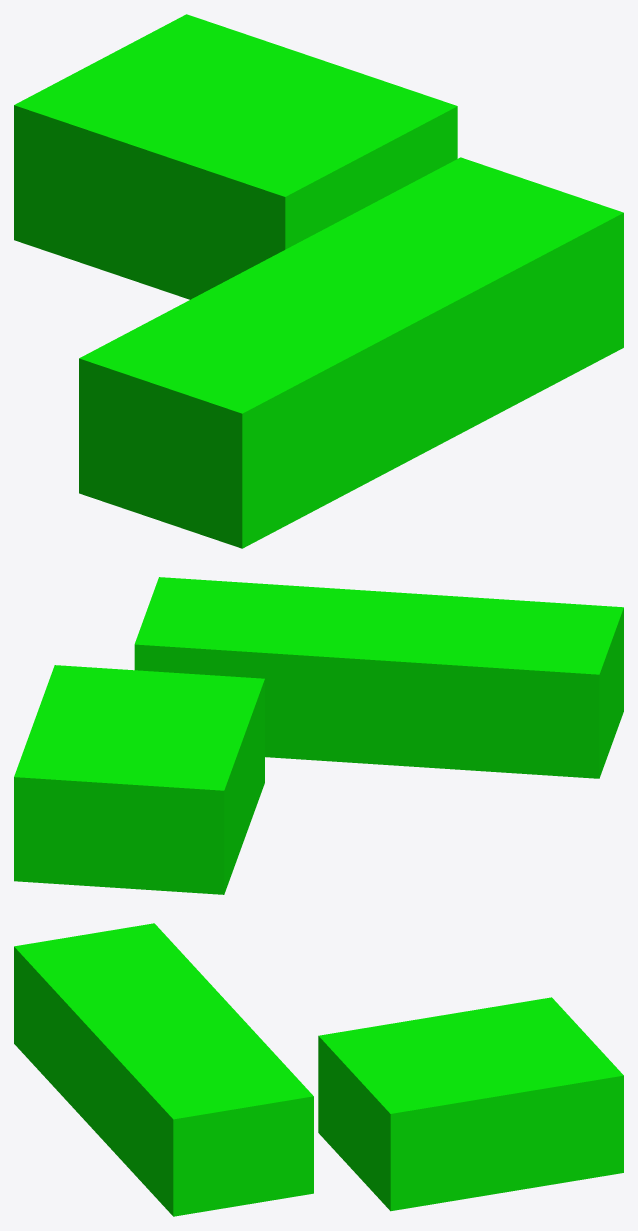
File: OPS levelG bubble.fbx
3 renders of one model, top to bottom at view 1: azimuth 30°, elevation 25°; view 2: azimuth 150°, elevation 25°; view 3: azimuth 270°, elevation 25°, orthographic. The views are drawn at different scales.
Visible parts, largest first — view 1: G18_1, G19_1; view 2: G18_1, G19_1; view 3: G18_1, G19_1.
Boxes of the visible parts, x1=… form: G18_1: x1=79, y1=157, x2=623, y2=548; G19_1: x1=14, y1=14, x2=457, y2=299; G18_1: x1=134, y1=577, x2=623, y2=778; G19_1: x1=14, y1=665, x2=264, y2=894; G18_1: x1=14, y1=923, x2=313, y2=1216; G19_1: x1=318, y1=997, x2=623, y2=1211.
Size of the model in its own units: 18161 by 4200 by 23865.
